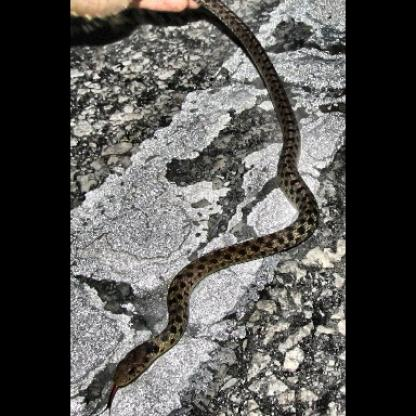Snake: (164, 4, 326, 317), (100, 316, 201, 402)
